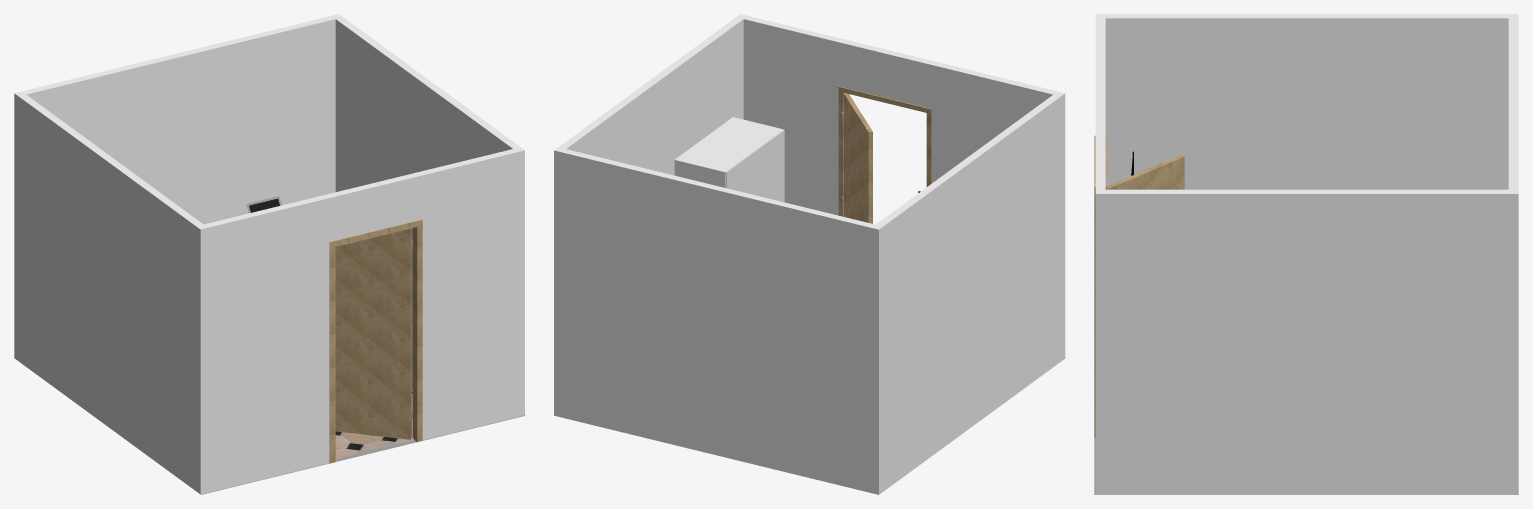
Rendered from PrimeraHabitacion-Claro.obj.
3 renders of one model, left to right at view 1: azimuth 30°, elevation 25°; view 2: azimuth 150°, elevation 25°; view 3: azimuth 270°, elevation 25°, orthographic. The views are drawn at different scales.
Visible parts, largest first — view 1: wall_3_16, wall_4_22, wall_1_5, wall_2_11, sweethome3d_opening_on_hinge_1_door_112, frame_104, room_5_26, wall_1_6, wall_3_18, wall_1_7, wall_3_19, wall_4_24 (+4 smaller); view 2: wall_1_4, wall_4_22, wall_3_17, wall_2_11, Corps_33, sweethome3d_opening_on_hinge_1_door_112, sweethome3d_opening_on_hinge_2_door_41, frame_104, sweethome3d_opening_on_hinge_1_door_35, wall_1_6, wall_3_18, wall_3_19 (+5 smaller); view 3: wall_2_10, wall_4_23, sweethome3d_opening_on_hinge_1_door_112, wall_2_13, wall_4_25, wall_3_18, wall_1_6, wall_3_19, wall_1_7, wall_2_12, wall_4_24, frame_104.
Part boxes in pixels (x1,y1,x2,y2): wall_3_16: (200, 150, 524, 494); wall_4_22: (14, 93, 200, 494); wall_1_5: (26, 19, 335, 224); wall_2_11: (335, 19, 512, 191); sweethome3d_opening_on_hinge_1_door_112: (335, 228, 411, 439); frame_104: (329, 219, 422, 463); room_5_26: (335, 389, 413, 458); wall_1_6: (14, 14, 338, 93); wall_3_18: (201, 149, 524, 229); wall_1_7: (20, 16, 336, 94); wall_3_19: (202, 149, 517, 226); wall_4_24: (15, 93, 201, 229); wall_1_4: (554, 150, 878, 494); wall_4_22: (879, 93, 1065, 494); wall_3_17: (743, 19, 1052, 215); wall_2_11: (566, 19, 743, 175); Corps_33: (674, 117, 783, 187); sweethome3d_opening_on_hinge_1_door_112: (843, 93, 872, 223); sweethome3d_opening_on_hinge_2_door_41: (755, 129, 784, 202); frame_104: (838, 86, 931, 216); sweethome3d_opening_on_hinge_1_door_35: (725, 151, 755, 195); wall_1_6: (554, 150, 878, 229); wall_3_18: (740, 14, 1064, 93); wall_3_19: (742, 16, 1058, 94); wall_2_10: (1095, 194, 1518, 494); wall_4_23: (1105, 18, 1508, 189); sweethome3d_opening_on_hinge_1_door_112: (1107, 155, 1184, 189); wall_2_13: (1101, 189, 1513, 191); wall_4_25: (1101, 16, 1513, 18); wall_3_18: (1095, 14, 1100, 193); wall_1_6: (1513, 14, 1518, 193); wall_3_19: (1100, 16, 1105, 191); wall_1_7: (1508, 16, 1513, 191); wall_2_12: (1096, 192, 1517, 193); wall_4_24: (1096, 14, 1517, 15); frame_104: (1094, 135, 1106, 437).
Size of the model in its own units: 320 by 250 by 320.
Materials: 22 (3 with a texture image).
